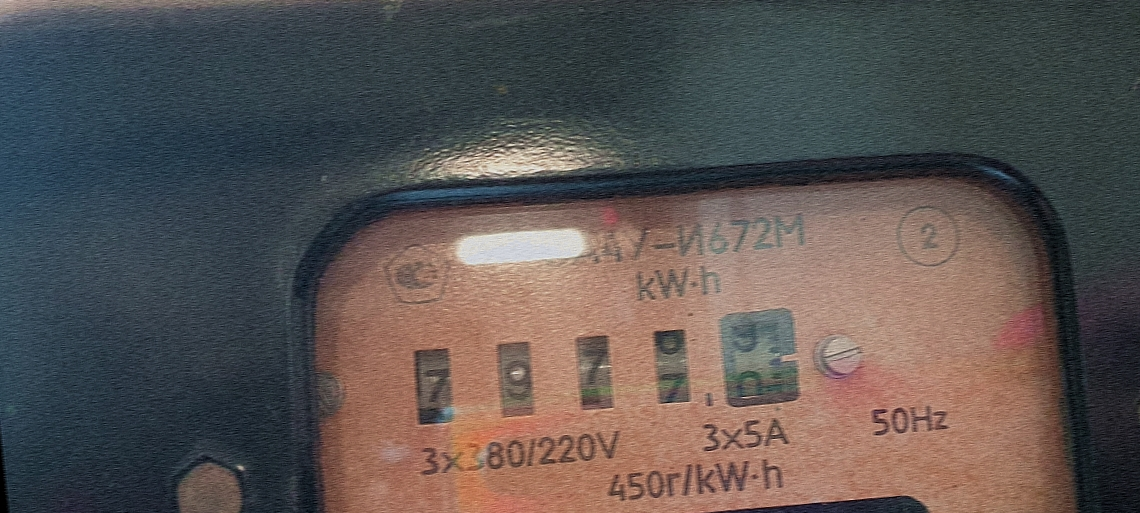0: (731, 360, 768, 401)
7: (419, 360, 454, 405), (577, 340, 612, 385), (656, 364, 690, 403)
9: (498, 352, 537, 400), (728, 313, 762, 351)
screen: (389, 281, 829, 461)
